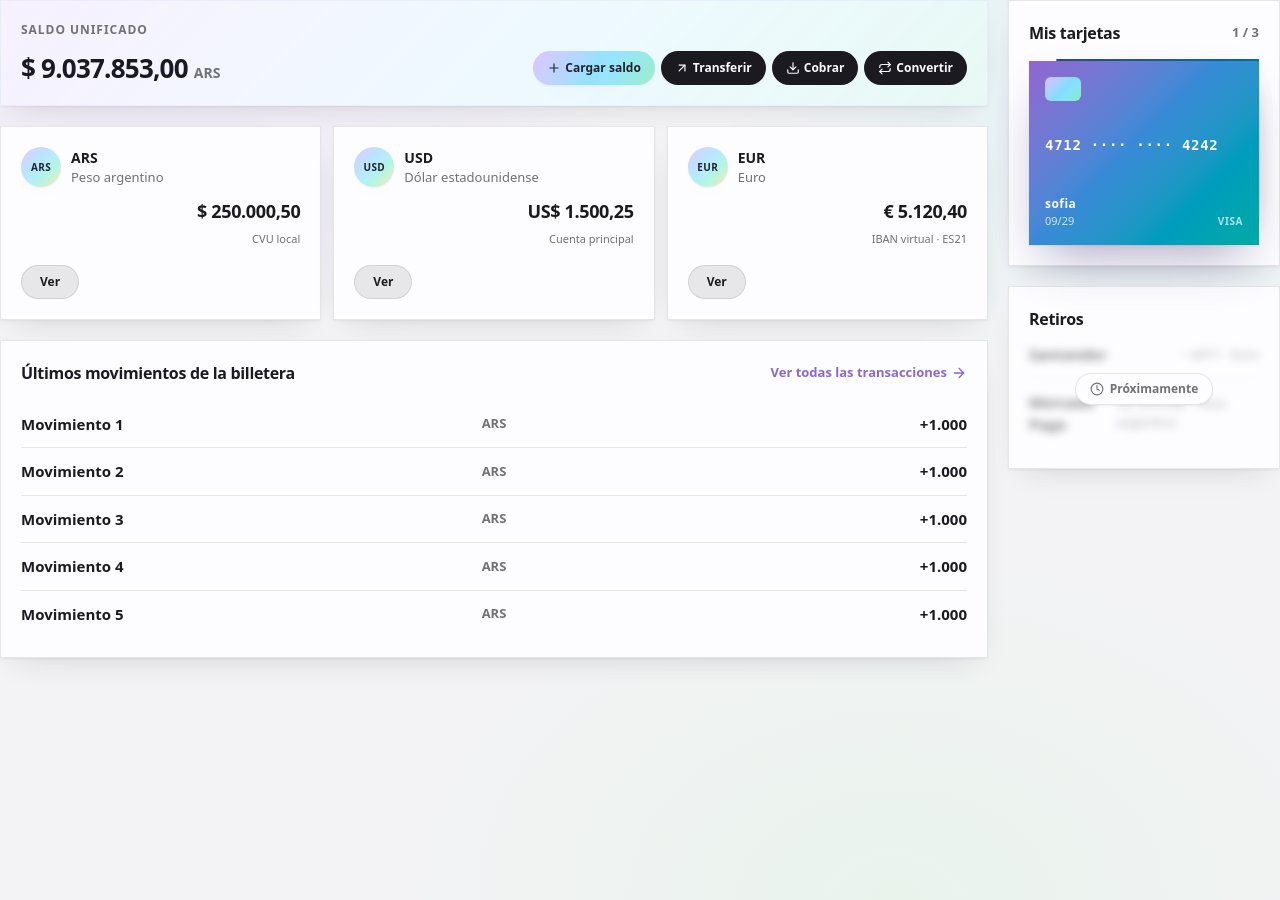
WalletSummary — límites de depósito › límite diario: cierra el modal de depósito y muestra el error
Step 1. Click the button "Cargar saldo" → coordinates (594, 68), box [533, 51, 655, 85]
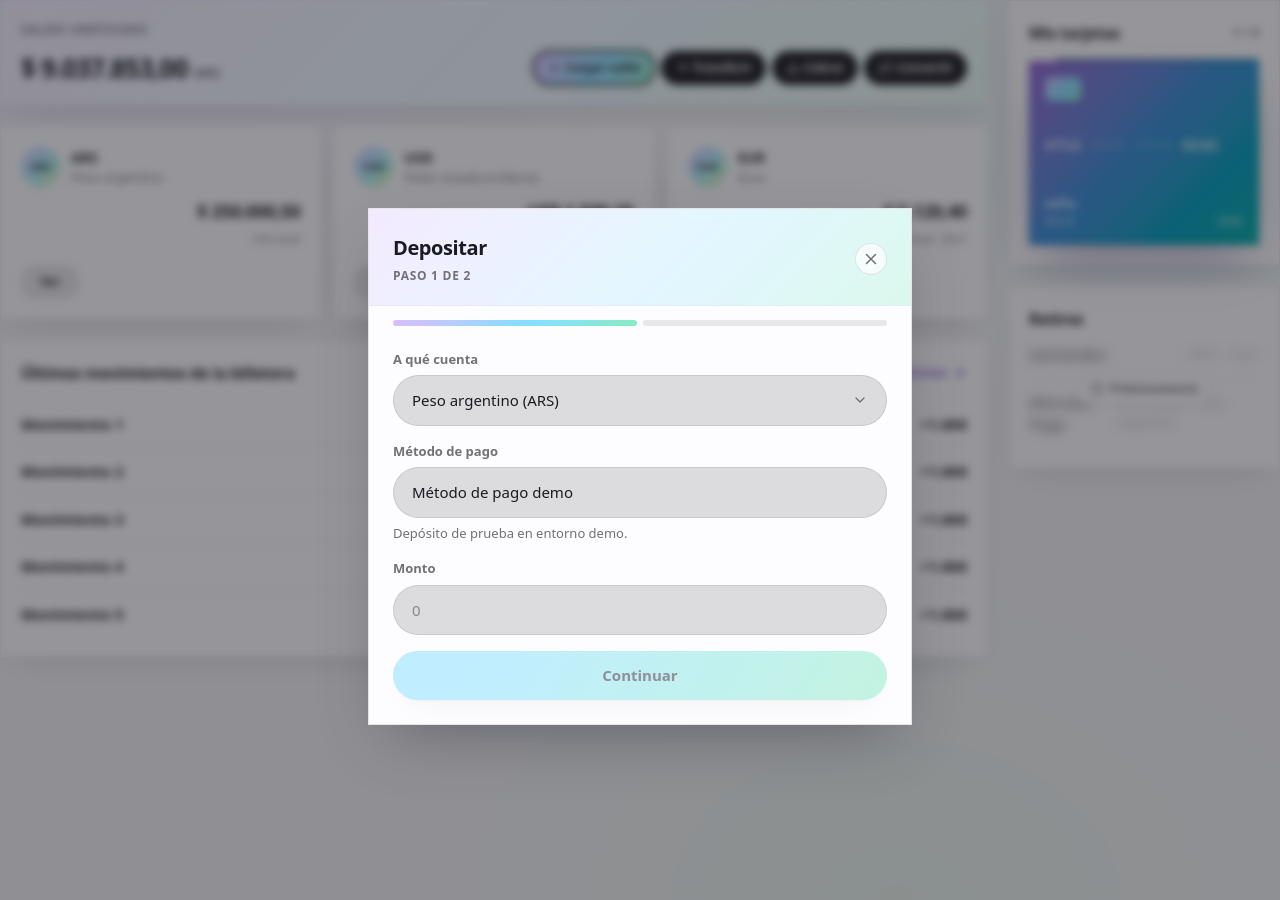
Step 2. Type "1000" into the number field labelled "Monto" → coordinates (640, 610), box [393, 584, 887, 635]
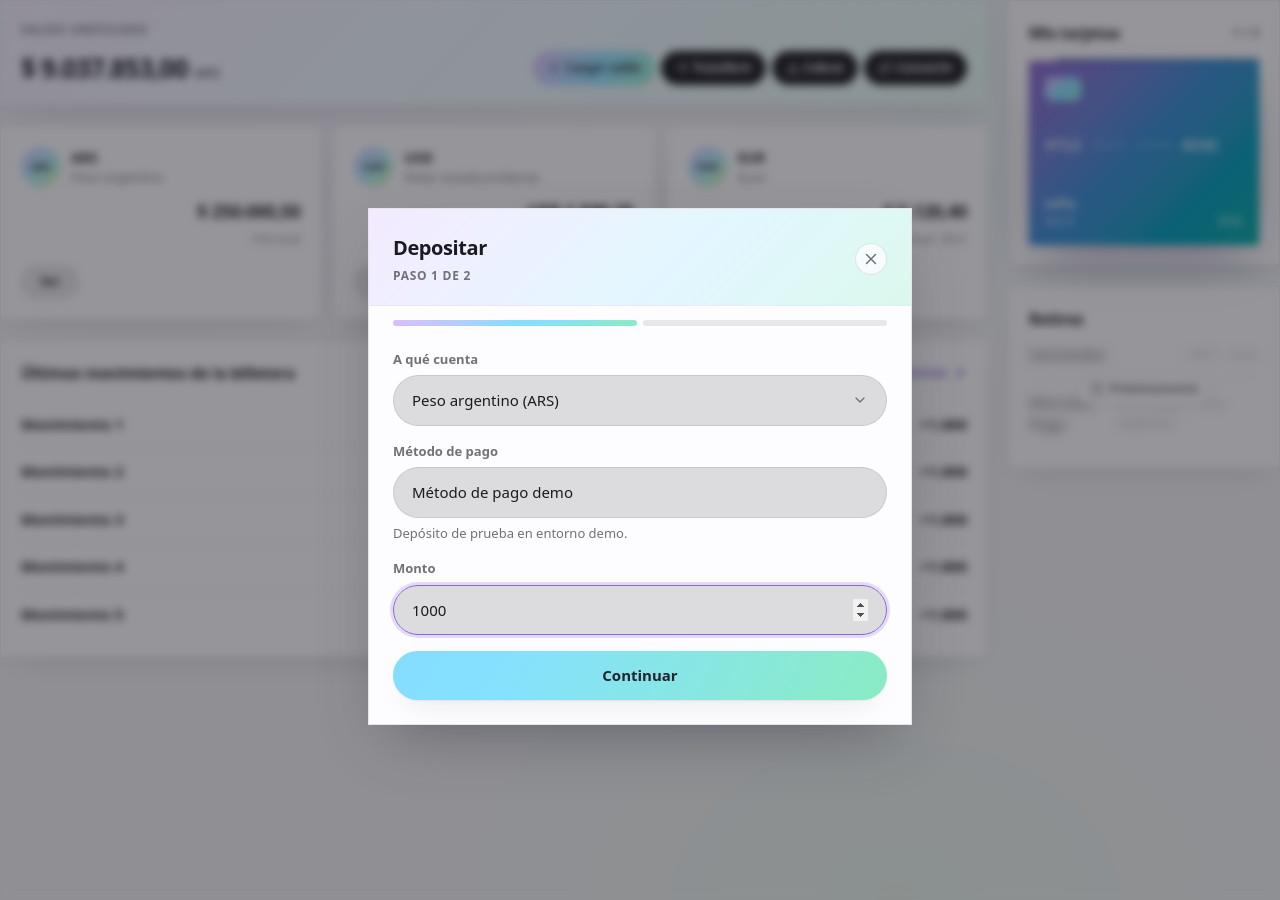
Step 3. Click the button "Continuar" → coordinates (640, 675), box [393, 651, 887, 700]
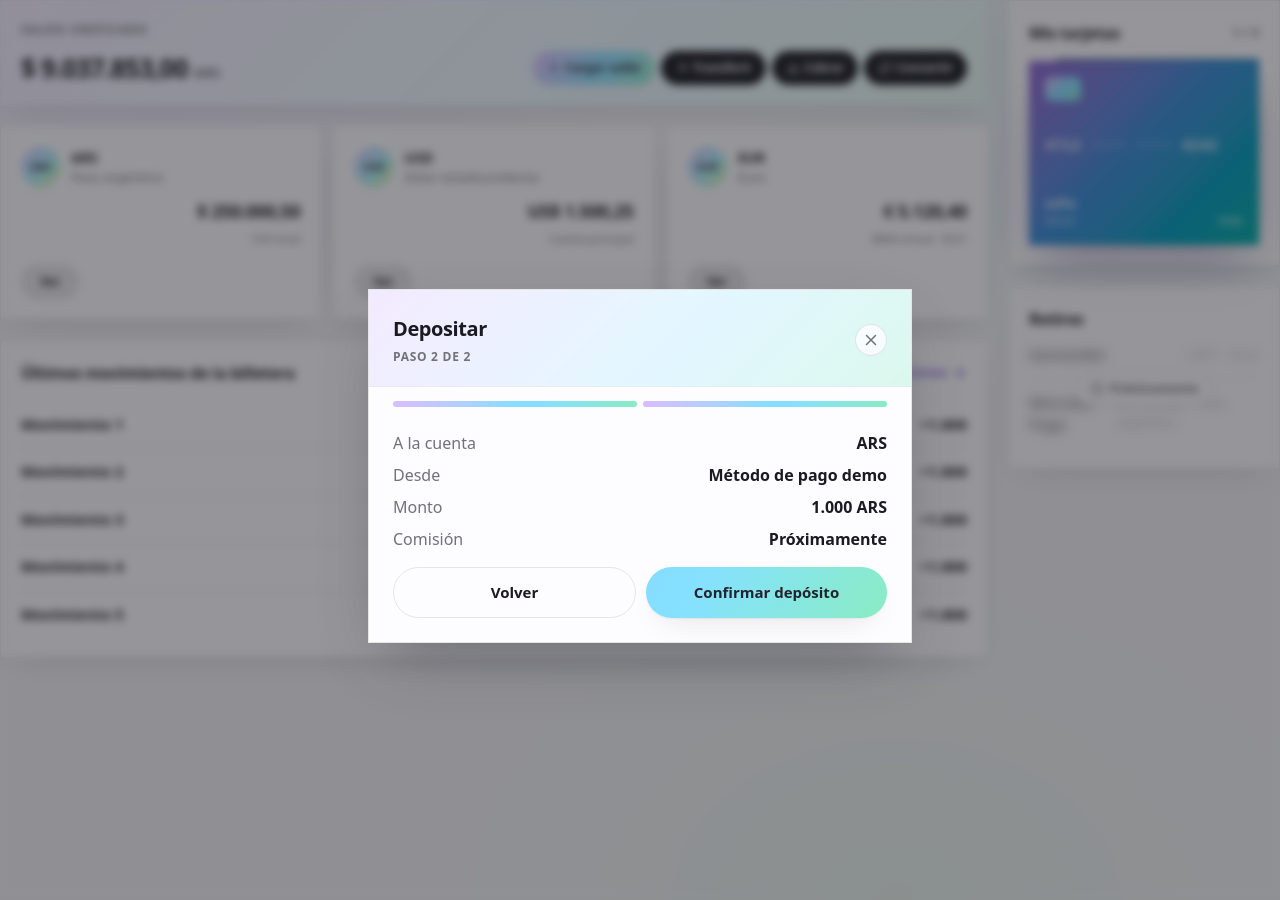
Step 4. Click the button "Confirmar depósito" → coordinates (766, 593), box [646, 567, 887, 618]
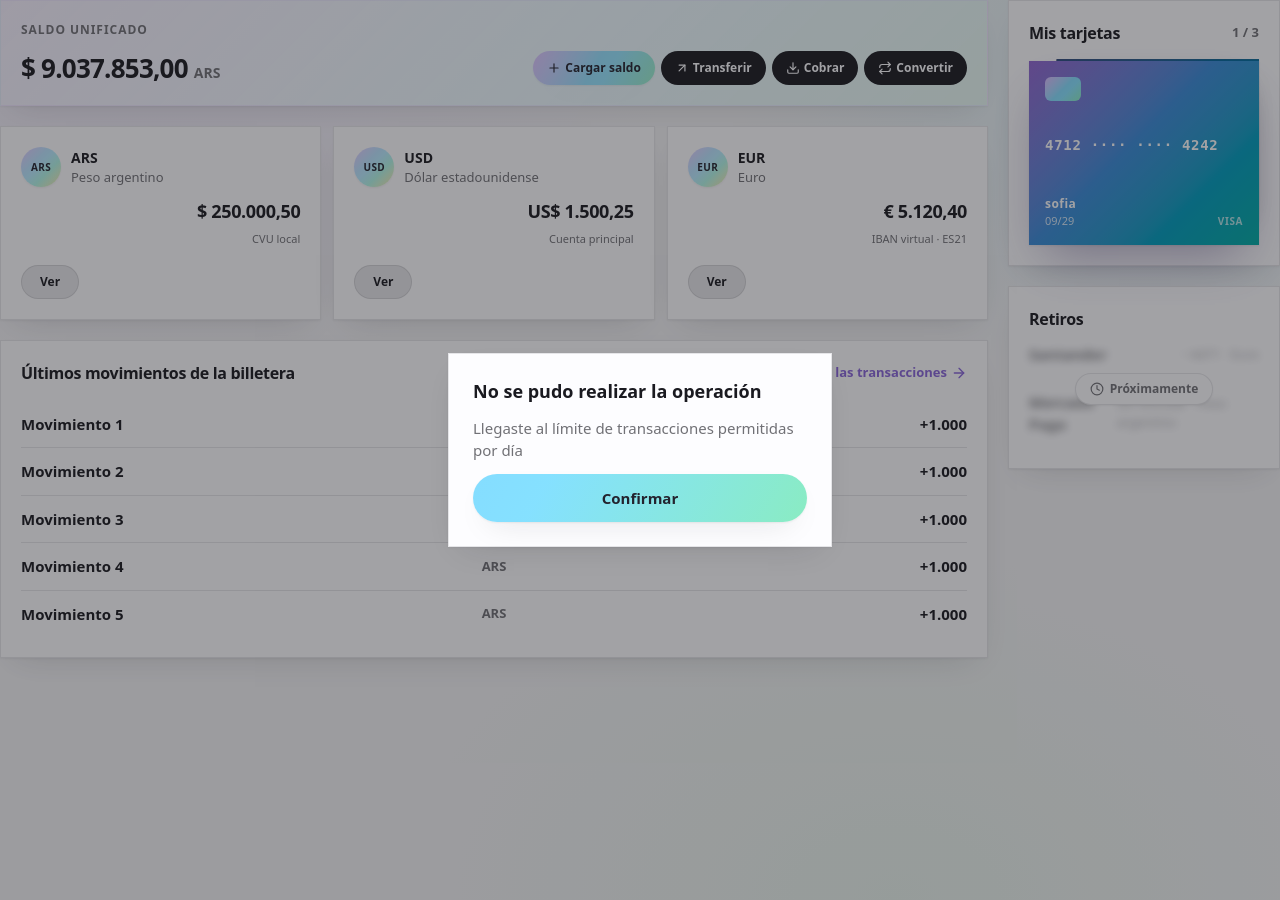
Result: the text "Llegaste al límite de transacciones permitidas por día" is shown at [473, 417, 807, 462]
Result: the text labelled "Monto" is gone
